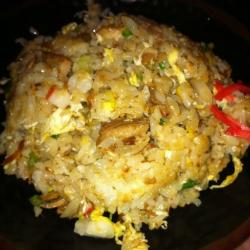rice: (26, 30, 216, 220)
